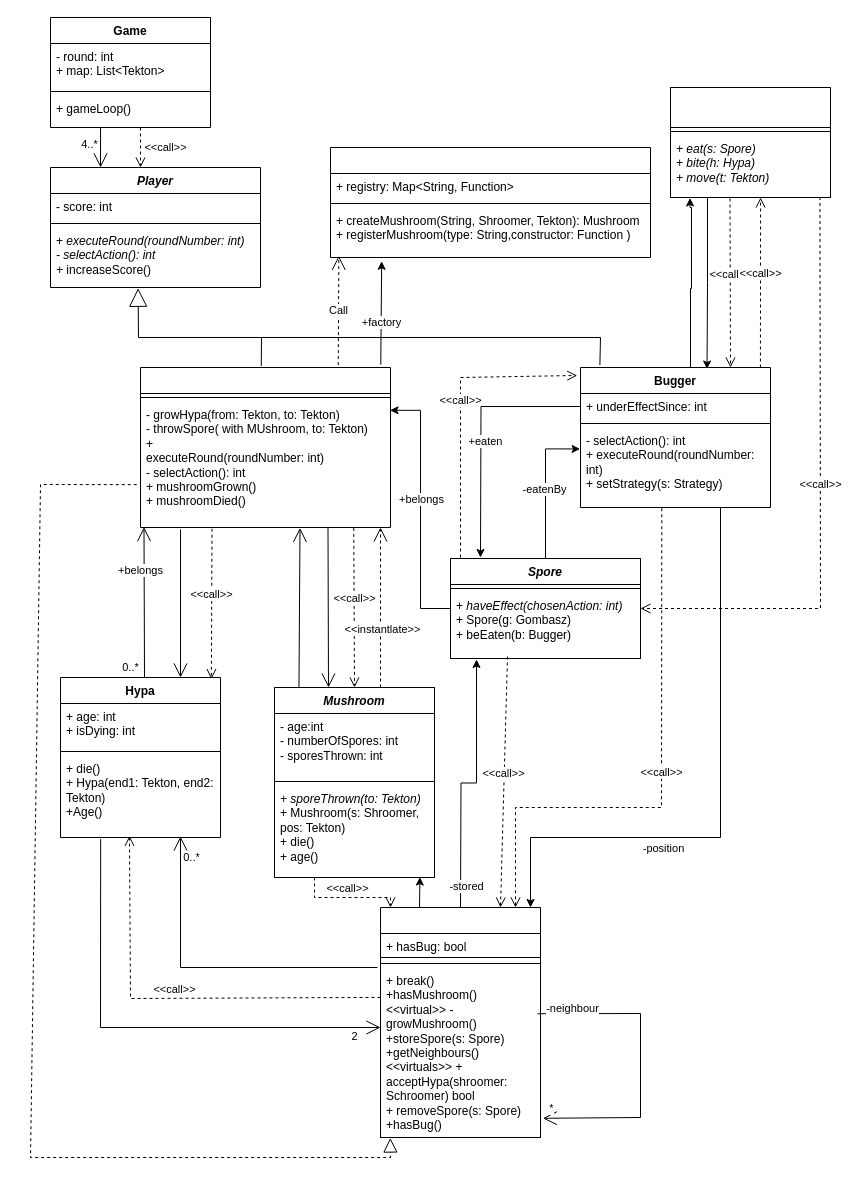
Image size: 859x1189. Some labels were removed from this diagram. Each missing label, with the box of its shape:
<<interface>> Strategy: (670, 86, 830, 198)
MushroomFactoryRegistry: (330, 146, 650, 258)
Shroomer: (140, 366, 390, 528)
Tekton: (380, 906, 540, 1138)
